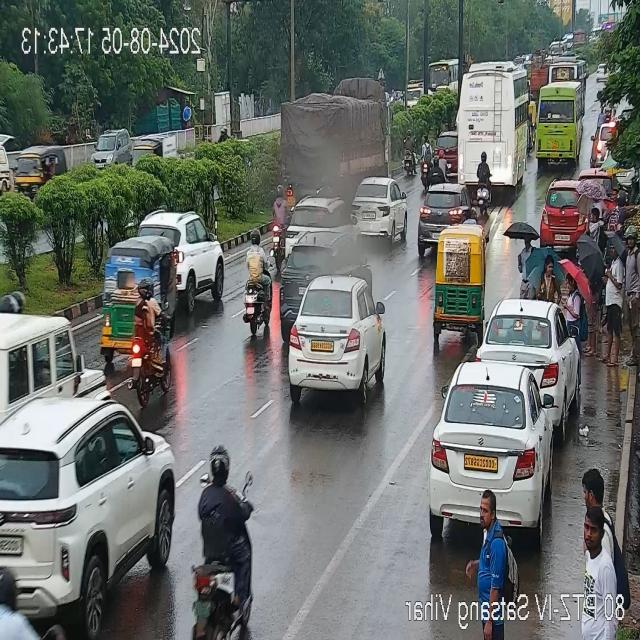2-wheelers: (190, 455, 257, 640), (130, 280, 166, 390), (238, 237, 272, 339), (270, 182, 288, 272), (476, 156, 494, 217), (418, 136, 436, 188)
auto: (98, 236, 175, 364), (430, 226, 488, 342), (15, 146, 70, 203), (132, 123, 166, 178)
bus: (536, 82, 586, 172), (547, 52, 591, 88), (426, 58, 456, 101), (528, 49, 550, 98)
car: (0, 384, 177, 640), (427, 351, 563, 532), (474, 298, 579, 431), (286, 269, 386, 403), (0, 313, 103, 413), (151, 208, 225, 292), (351, 176, 407, 240), (286, 196, 354, 246), (540, 181, 586, 250), (420, 184, 472, 234), (88, 125, 130, 183), (434, 124, 462, 182), (588, 118, 620, 164)
pedestrian: (580, 472, 629, 640), (522, 248, 594, 354), (466, 496, 516, 640)
truck: (285, 81, 387, 198), (451, 67, 527, 191)
